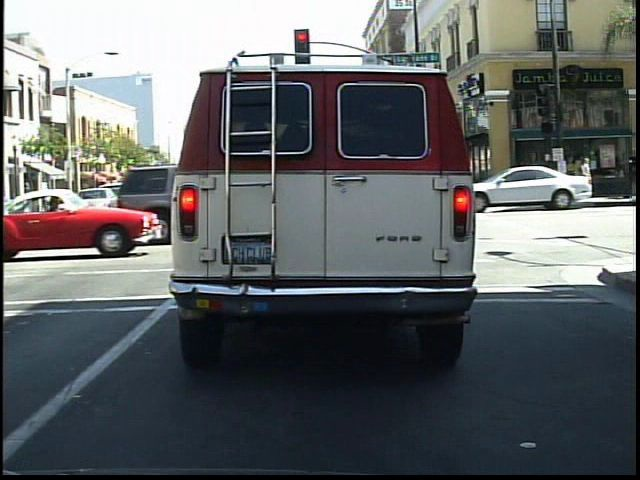person: (539, 151, 562, 207), (513, 156, 534, 203)
